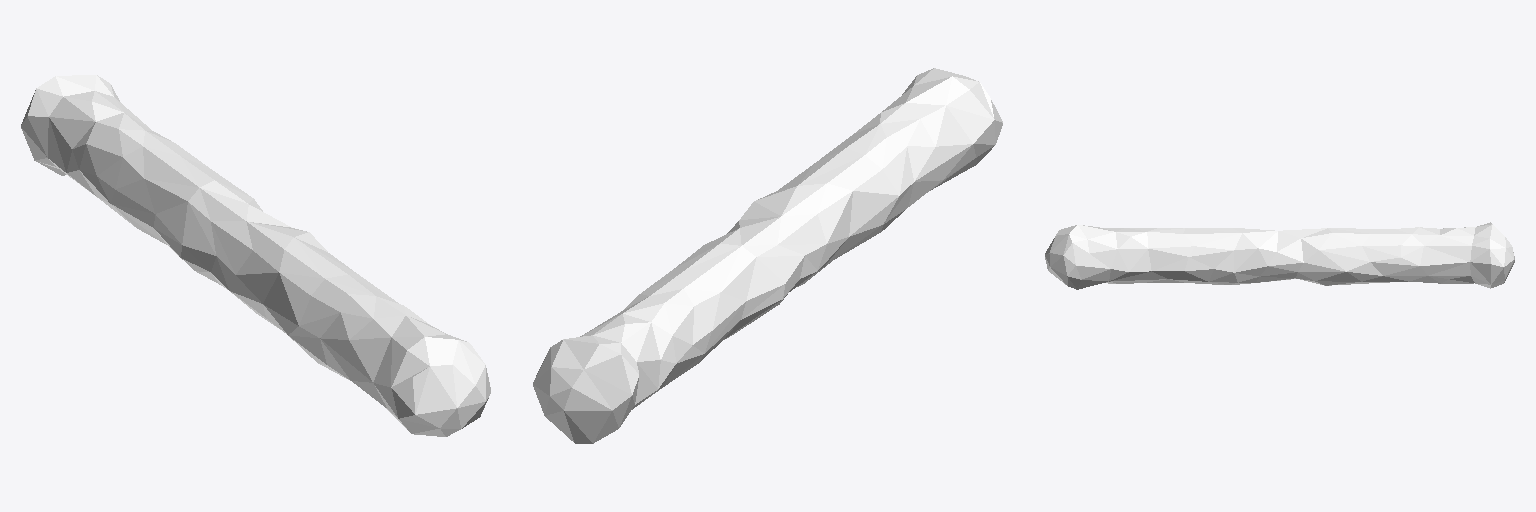
The robot description file, URDF, robot "atb1_rod-8mm":
<?xml version="0.0" ?>
<robot name="atb1_rod-8mm">
  <link name="baseLink">
    <contact>
      <friction_anchor/>
      <lateral_friction value="0.8"/>
      <spinning_friction value="0.001"/>
      <rolling_friction value="0.001"/>
      <contact_cfm value="0.0"/>
      <contact_erp value="0.2"/>
    </contact>
    <inertial>
       <origin rpy="0 0 0" xyz="0 0 0"/>
       <mass value="0.01"/>
       <inertia ixx="1e-3" ixy="0" ixz="0" iyy="1e-3" iyz="0" izz="1e-3"/>
    </inertial>
    <visual>
      <origin rpy="0 0 0" xyz="0 0 0"/>
      <geometry>
        <mesh filename="obj/fused_model.obj" scale="1 1 1"/>
      </geometry>
      <material name="white">
        <color rgba="1. 1. 1. 1."/>
      </material>
    </visual>
    <collision>
      <origin rpy="0 0 0" xyz="0 0 0"/>
      <geometry>
        <mesh filename="obj/fused_model.obj" scale="1 1 1"/>
      </geometry>
    </collision>
  </link>
</robot>

--- What the picture shows (computed from the rendered views, not written in the file) ---
Views: 3 orthographic renders of the robot side by side, from view 1: azimuth 30°, elevation 25°; view 2: azimuth 150°, elevation 25°; view 3: azimuth 270°, elevation 25°.
Model atb1_rod-8mm with 1 links and 0 joints (none), rooted at baseLink, posed every joint at zero.
Visible links, largest first — view 1: baseLink; view 2: baseLink; view 3: baseLink.
Link boxes in pixels (<box>): baseLink: <box>21,75,490,436</box>; baseLink: <box>533,68,1002,443</box>; baseLink: <box>1045,222,1514,289</box>.
Bounding box of the posed robot: 0.0075 × 0.054 × 0.0076 m (x, y, z).
1 mesh visuals loaded from 1 distinct referenced files (1 OBJ).
